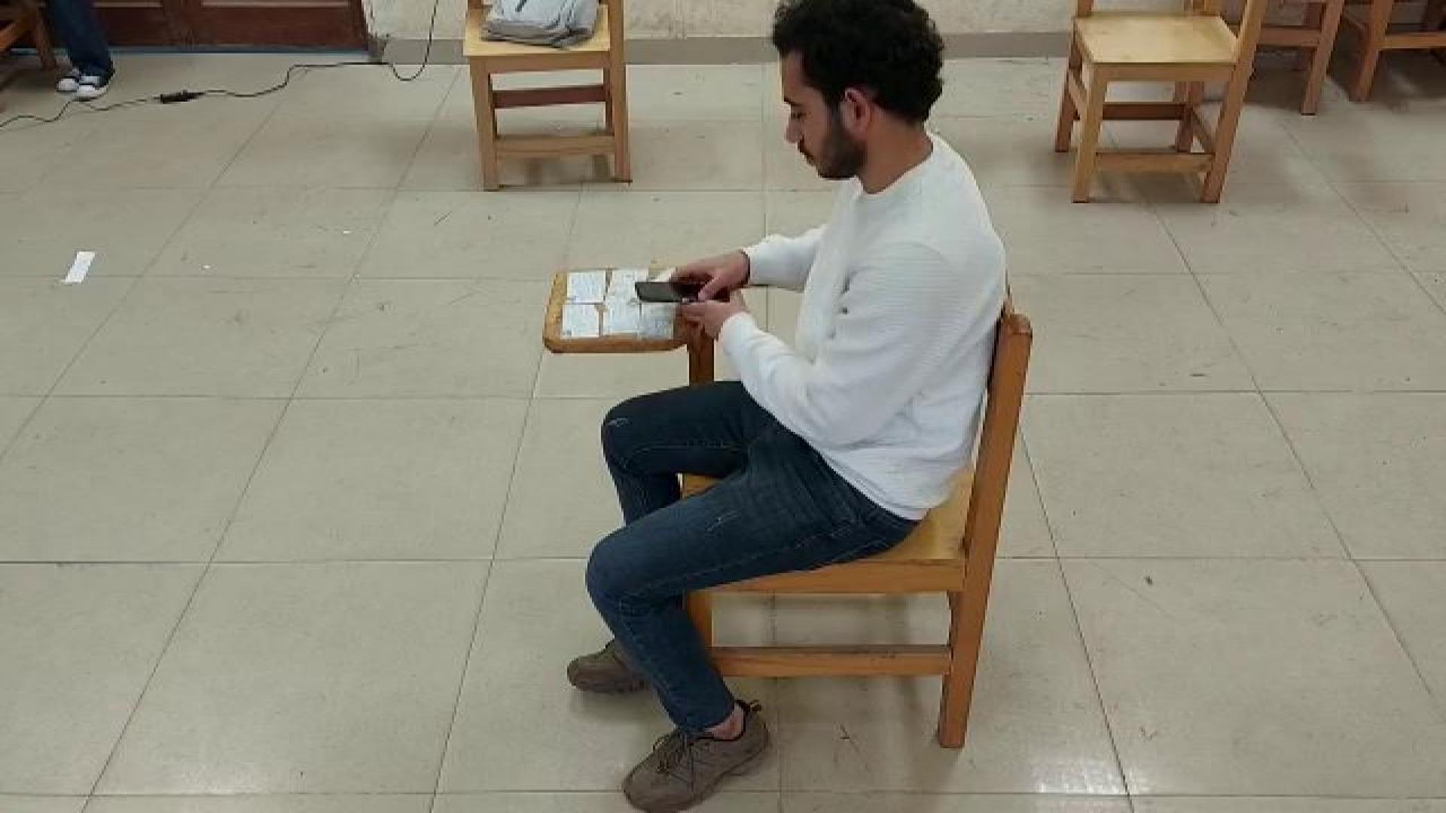phone: (633, 275, 732, 305)
